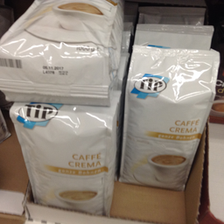coffee: (119, 42, 219, 192), (8, 101, 118, 217), (1, 1, 123, 103)
